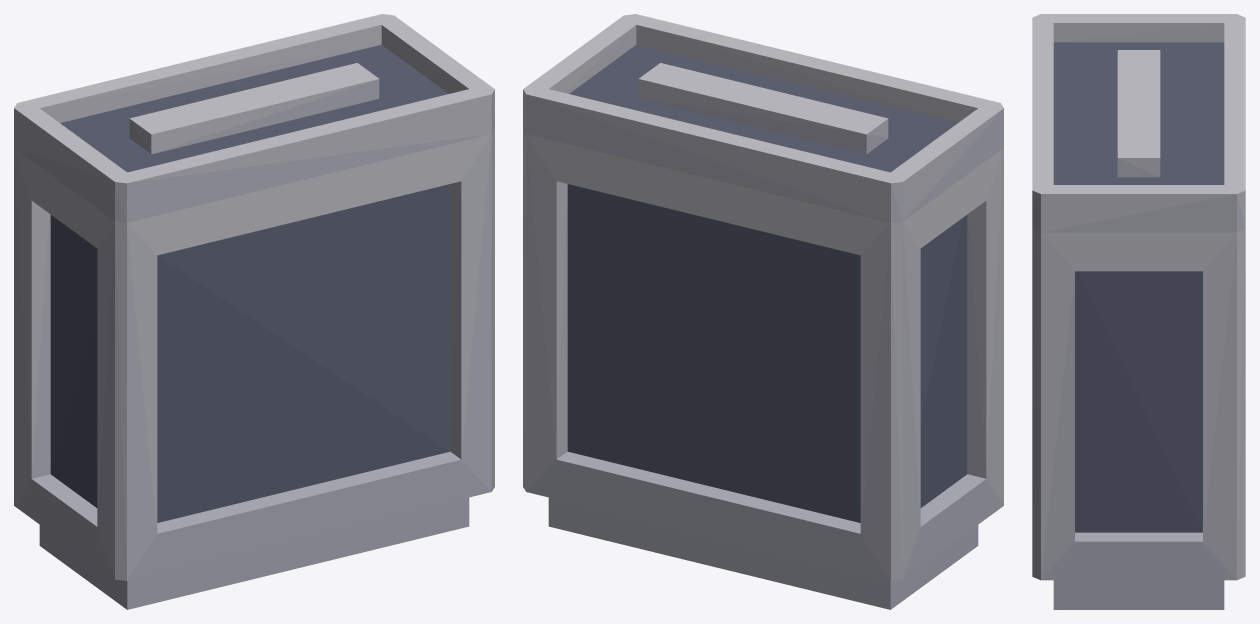
Rendered from block_wide_a.glb.
The picture shows the model from 3 angles, left to right: view 1: azimuth 30°, elevation 25°; view 2: azimuth 150°, elevation 25°; view 3: azimuth 270°, elevation 25°; orthographic projection. The views are drawn at different scales.
Visible parts, largest first — view 1: block_wide_a; view 2: block_wide_a; view 3: block_wide_a.
Part boxes in pixels (<box>): block_wide_a: <box>14,14,494,609</box>; block_wide_a: <box>523,14,1003,609</box>; block_wide_a: <box>1032,14,1245,609</box>.
Bounding box in the file's own units: 1 × 1.1 × 0.5.
